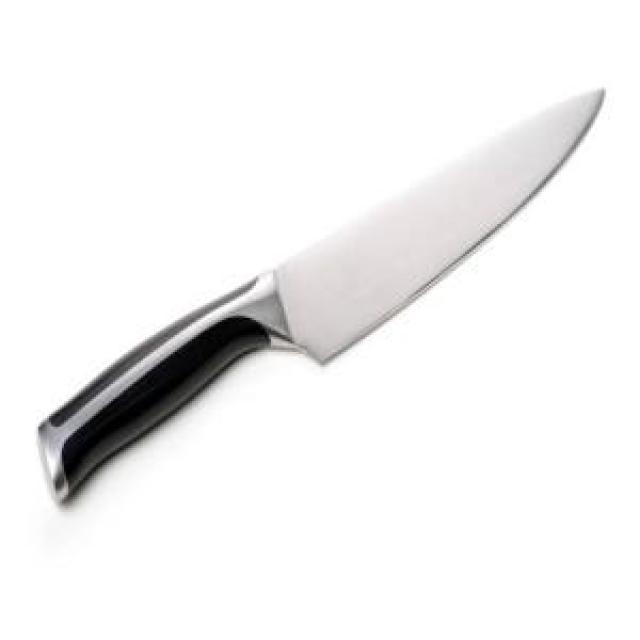knife: (34, 88, 607, 518)
